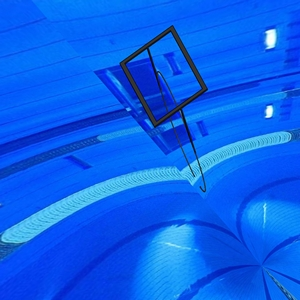circle: (118, 25, 209, 194)
